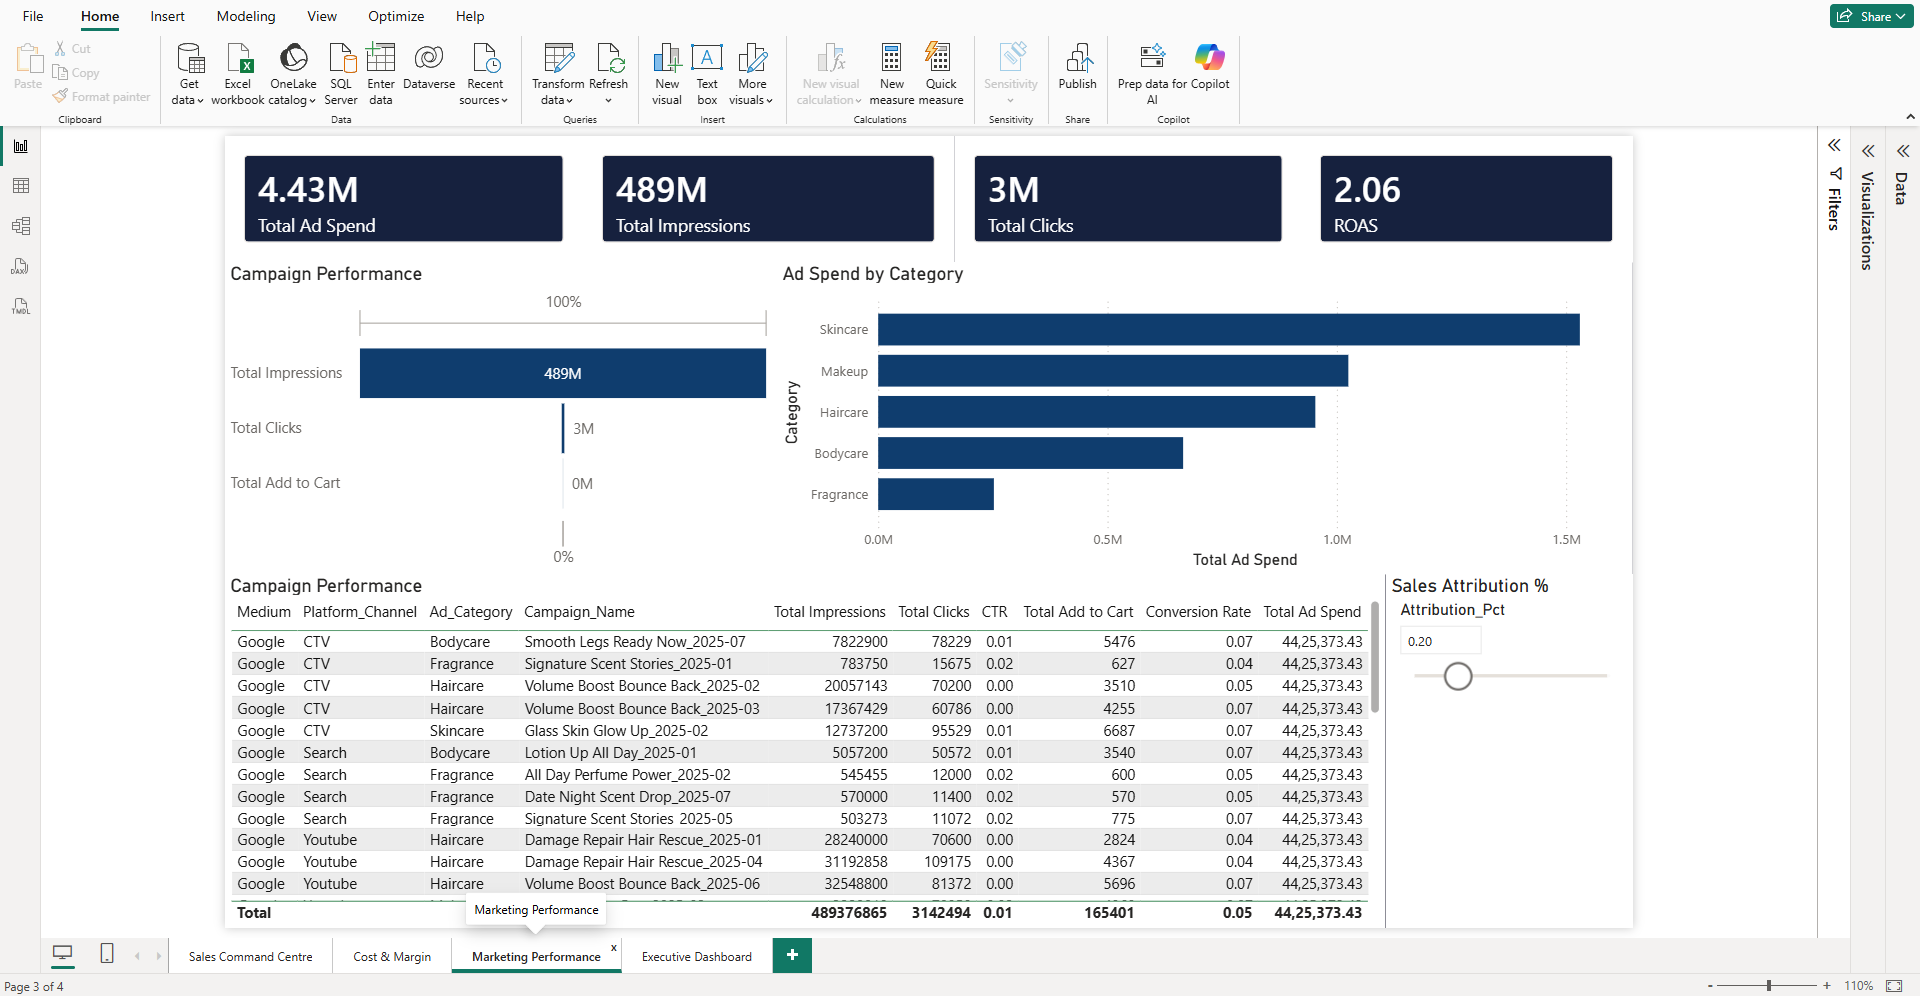

The page's visual inventory and layout, read from the dashboard file:
{"tool":"powerbi","page":{"name":"Marketing Performance","canvas":[1280,720],"ordinal":2},"visuals":[{"type":"cardVisual","fields":{"Data":["_Measures.Total Ad Spend"]},"box":[0,0,325.8,114.8],"z":0},{"type":"cardVisual","fields":{"Data":["_Measures.Total Impressions"]},"box":[325.8,0,337.5,114.8],"z":1000},{"type":"cardVisual","fields":{"Data":["_Measures.Total Clicks"]},"box":[663.3,0,315.1,114.8],"z":2000},{"type":"cardVisual","fields":{"Data":["_Measures.ROAS"]},"box":[978.5,0,301.5,114.8],"z":3000},{"type":"funnel","title":"Campaign Performance","fields":{"Y":["_Measures.Total Impressions","_Measures.Total Clicks","_Measures.Total Add to Cart"]},"box":[0,114.5,501.9,283.5],"z":4000},{"type":"tableEx","title":"Campaign Performance","fields":{"Values":["Dim_AdCampaign.Medium","Dim_AdCampaign.Platform_Channel","Dim_AdCampaign.Ad_Category","Dim_AdCampaign.Campaign_Name","_Measures.Total Impressions","_Measures.Total Clicks","_Measures.CTR","_Measures.Total Add to Cart","_Measures.Conversion Rate","_Measures.Total Ad Spend"]},"box":[0,398,1055.3,322.4],"z":5000},{"type":"clusteredBarChart","title":"Ad Spend by Category","fields":{"Category":["Dim_AdBudget.Category"],"Y":["_Measures.Total Ad Spend"]},"box":[501.9,114.5,778.1,283.5],"z":6000},{"type":"slicer","title":"Sales Attribution %","fields":{"Values":["Attribution_Pct.Attribution_Pct"]},"box":[1055.3,398,224.7,322.4],"z":7000}]}

Visuals, with their boxes on the page's 1280x720 design canvas (x1, y1, x2, y2). These are canvas units, not pixel positions in the 1920x996 screenshot, which may show the page scaled, cropped or inside an application window:
cardVisual - _Measures.Total Ad Spend: 0/0/326/115
cardVisual - _Measures.Total Impressions: 326/0/663/115
cardVisual - _Measures.Total Clicks: 663/0/978/115
cardVisual - _Measures.ROAS: 978/0/1280/115
"Campaign Performance" funnel: 0/114/502/398
"Campaign Performance" tableEx: 0/398/1055/720
"Ad Spend by Category" clusteredBarChart: 502/114/1280/398
"Sales Attribution %" slicer: 1055/398/1280/720
